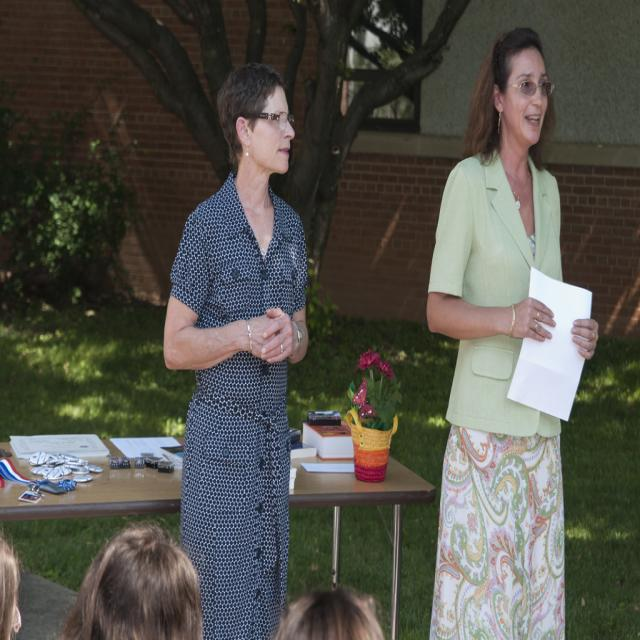desk: (3, 440, 434, 637)
person: (424, 25, 596, 636), (162, 61, 310, 633), (61, 521, 203, 637), (269, 585, 386, 639), (0, 533, 22, 637)
